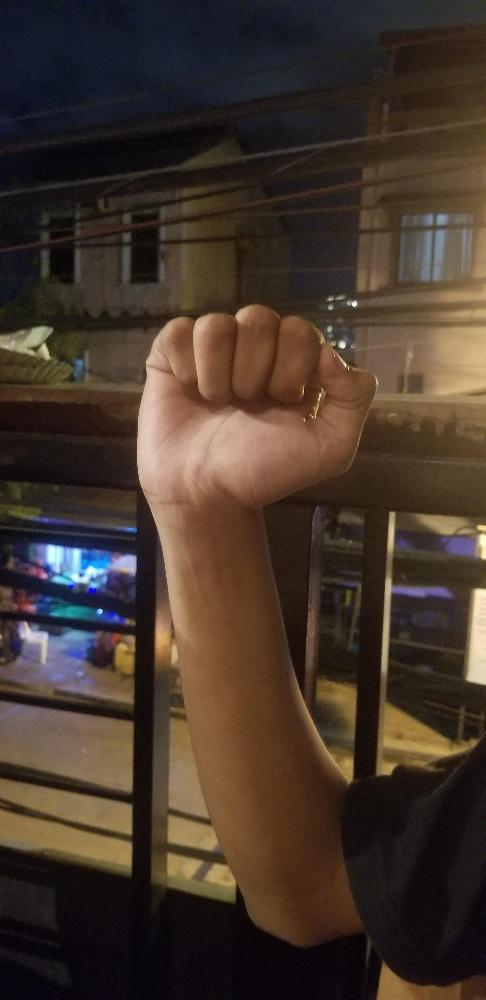a: (134, 299, 376, 506)
